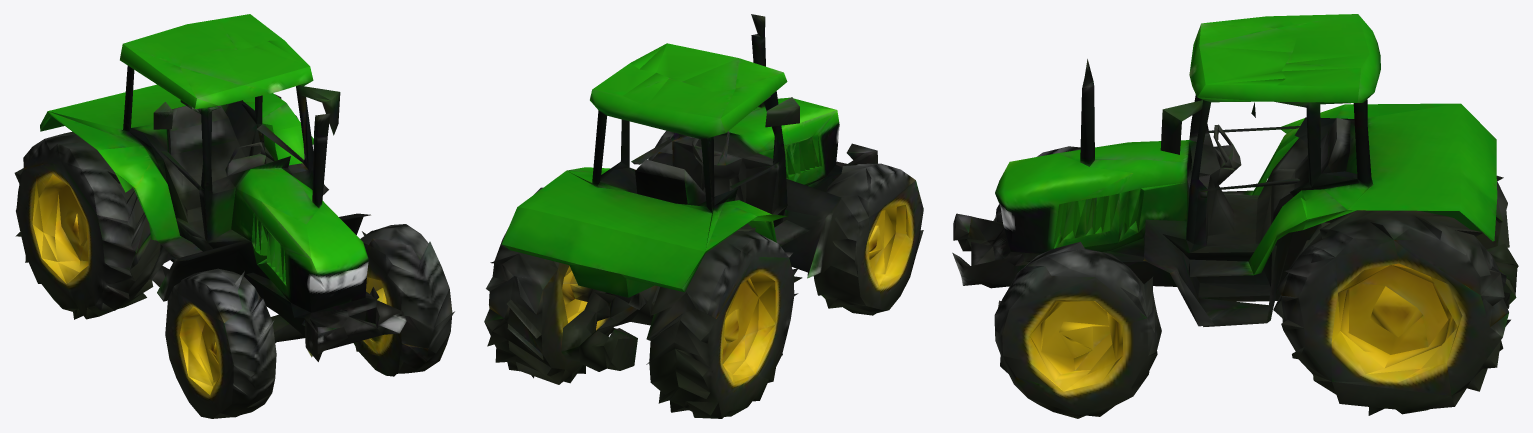
Rendered from tractor.glb.
3 views of the same model, side by side, from view 1: azimuth 30°, elevation 25°; view 2: azimuth 150°, elevation 25°; view 3: azimuth 270°, elevation 25° (orthographic). The views are drawn at different scales.
Visible parts, largest first — view 1: model; view 2: model; view 3: model.
Boxes of the visible parts, x1=… form: model: x1=14, y1=14, x2=454, y2=418; model: x1=484, y1=14, x2=923, y2=418; model: x1=952, y1=14, x2=1518, y2=418.
Bounding box in the file's own units: 0.9801 × 1.16 × 1.89.
1 material, 1 textured.
